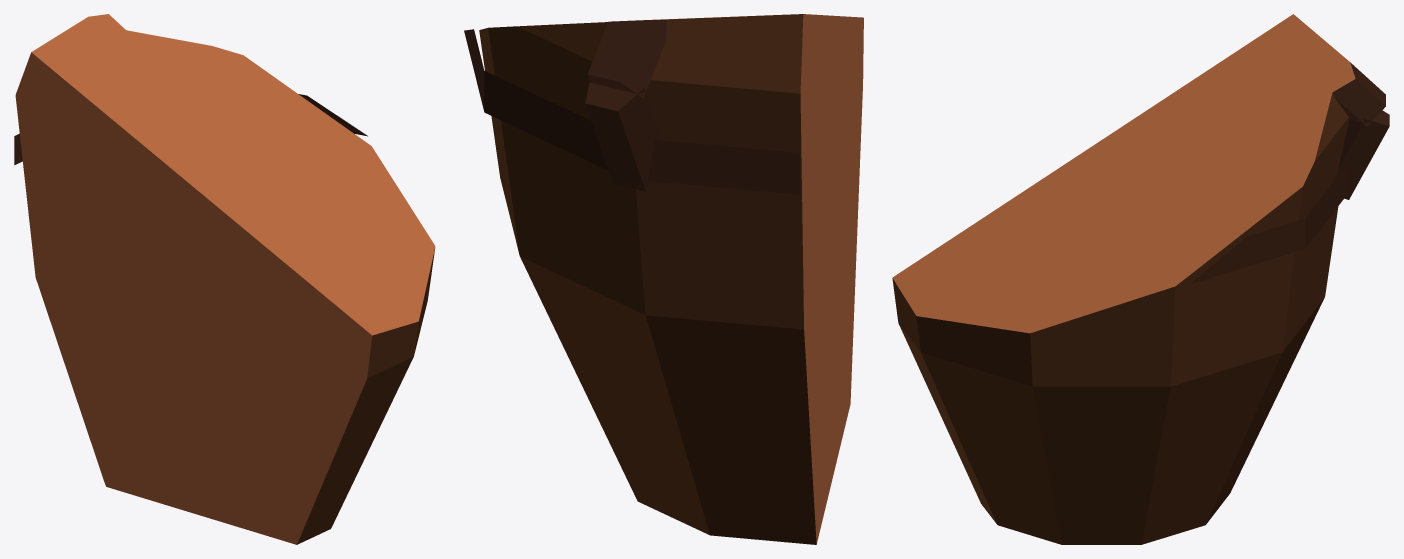
File: jar_01_shard_1.glb
3 renders of one model, left to right at view 1: azimuth 30°, elevation 25°; view 2: azimuth 150°, elevation 25°; view 3: azimuth 270°, elevation 25°, orthographic. The views are drawn at different scales.
Parts seen in each view (by area): view 1: jar_01_shard_1; view 2: jar_01_shard_1; view 3: jar_01_shard_1.
Boxes of the visible parts, box(x1,y1,x2,y2) form: jar_01_shard_1: box(14, 14, 435, 544); jar_01_shard_1: box(464, 14, 863, 544); jar_01_shard_1: box(892, 14, 1389, 544).
Bounding box in the file's own units: 0.5265 × 0.7015 × 0.7344.
Materials: 3 (2 with a texture image).
